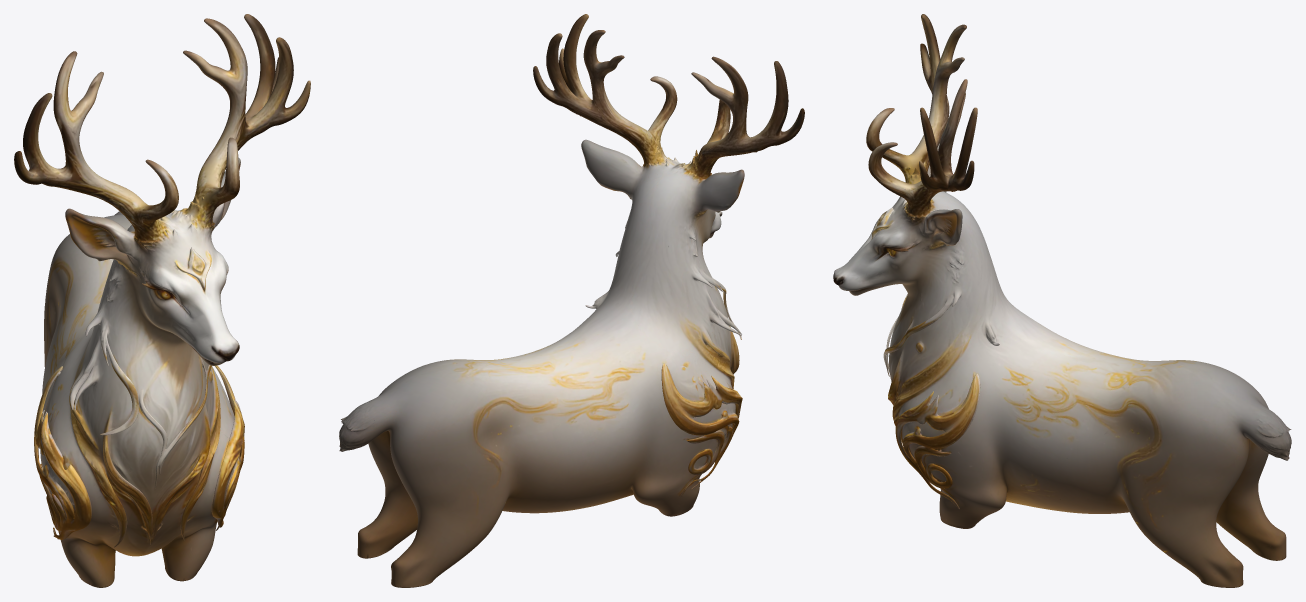
File: fu-zhu.glb
3 views of the same model, side by side, from view 1: azimuth 30°, elevation 25°; view 2: azimuth 150°, elevation 25°; view 3: azimuth 270°, elevation 25° (orthographic). The views are drawn at different scales.
Parts seen in each view (by area): view 1: node_0; view 2: node_0; view 3: node_0.
Part boxes in pixels (<box>): node_0: <box>14,14,310,587</box>; node_0: <box>339,14,804,587</box>; node_0: <box>833,14,1291,587</box>.
Size of the model in its own units: 0.5816 by 0.8608 by 0.7876.
Materials: 1 (1 with a texture image).
